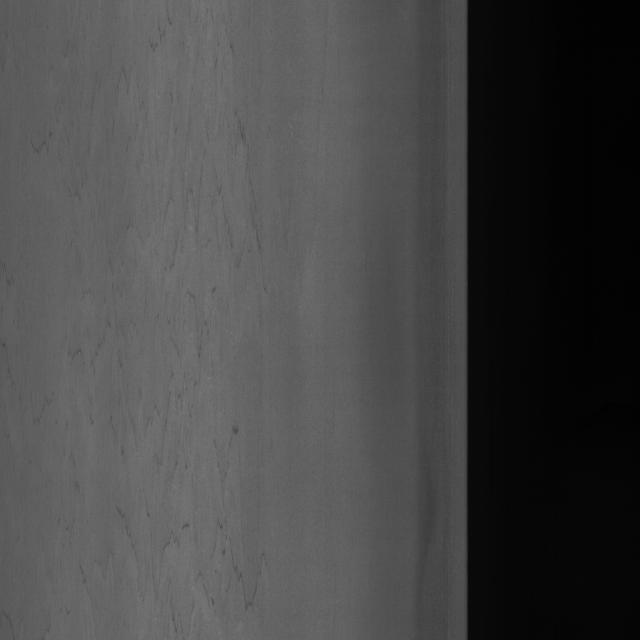inclusion: (98, 51, 279, 577)
